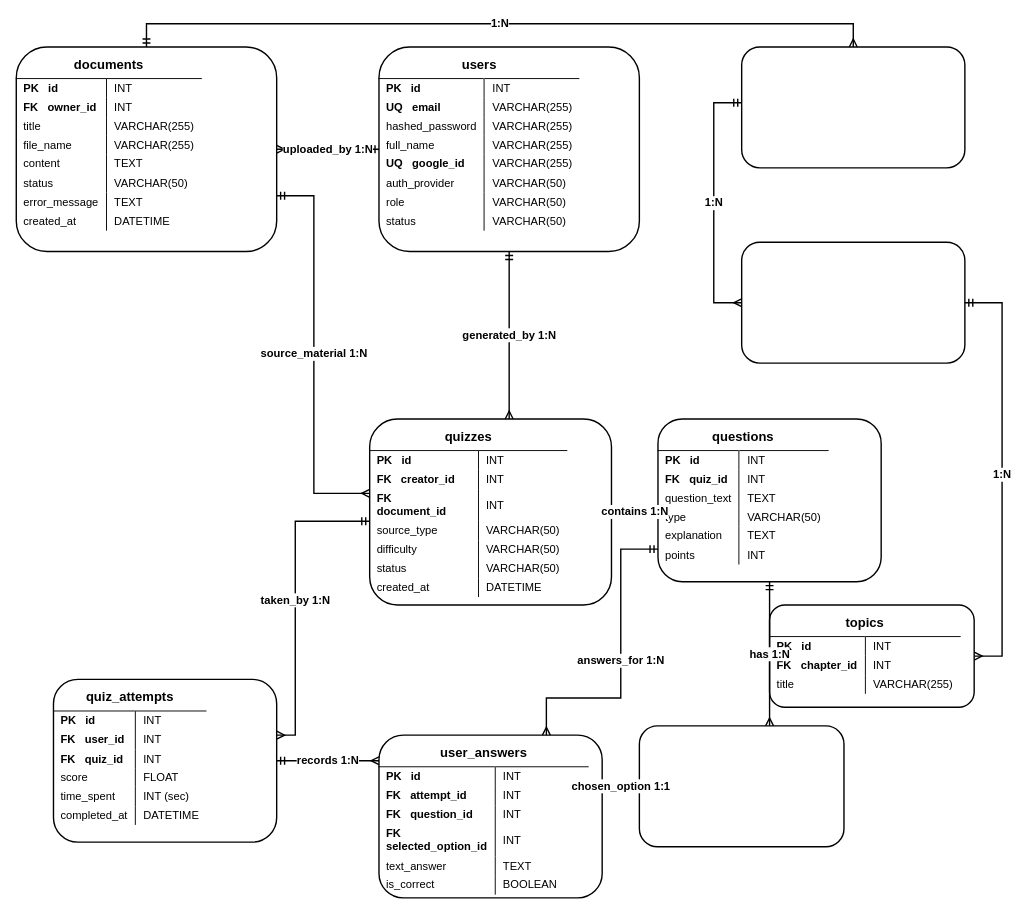
Image size: 1028x915. Some labels were removed from this diagram. Here are the shapes that lost their labels. From the top down, the centre of each, then its label:
(853,107): modules PK id INT FK document_id INT title VARCHAR(255) order INT
(853,302): chapters PK id INT FK document_id INT FK module_id INT title VARCHAR(255)
(741,786): options PK id INT FK question_id INT option_text TEXT is_correct BOOLEAN
